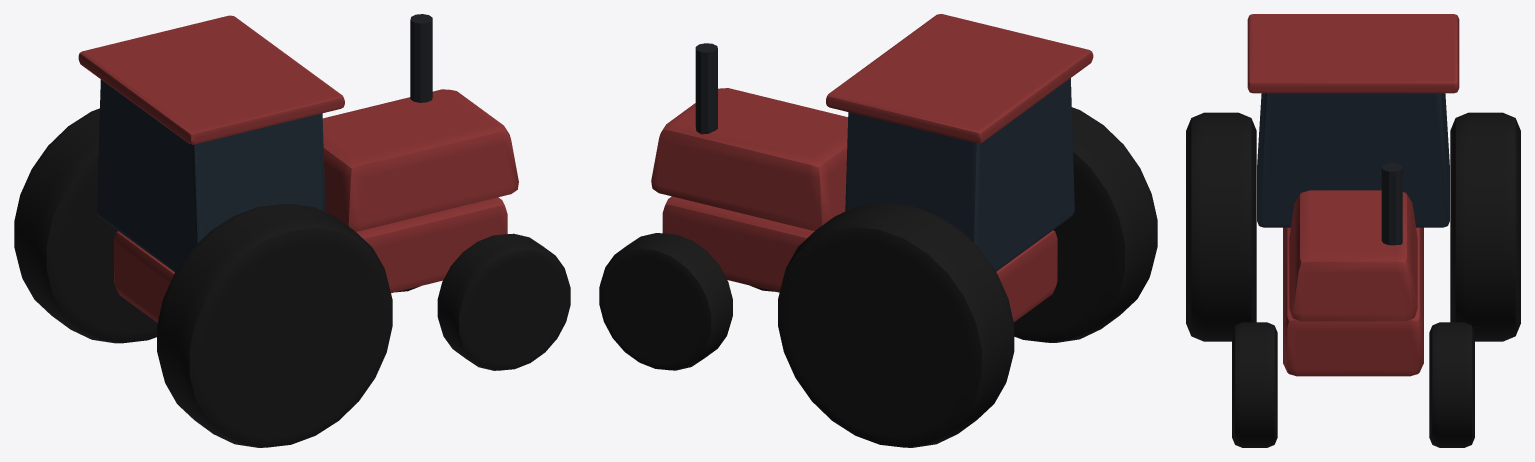
The model's file is tractor.glb.
3 renders of one model, left to right at view 1: azimuth 30°, elevation 25°; view 2: azimuth 150°, elevation 25°; view 3: azimuth 270°, elevation 25°, orthographic. The views are drawn at different scales.
Visible parts, largest first — view 1: part-paint, wheel-rear--1-tyre, part-glass, wheel-rear-1-tyre, wheel-front--1-tyre, part-trim; view 2: part-paint, wheel-rear-1-tyre, part-glass, wheel-rear--1-tyre, wheel-front-1-tyre, part-trim; view 3: part-paint, part-glass, wheel-rear-1-tyre, wheel-rear--1-tyre, wheel-front-1-tyre, wheel-front--1-tyre, part-trim.
Part boxes in pixels (x1,y1,x2,y2): part-paint: (78, 15, 518, 322); wheel-rear--1-tyre: (157, 203, 392, 447); part-glass: (96, 79, 325, 272); wheel-rear-1-tyre: (14, 108, 157, 343); wheel-front--1-tyre: (437, 233, 570, 370); part-trim: (410, 14, 432, 102); part-paint: (651, 14, 1093, 322); wheel-rear-1-tyre: (778, 203, 1014, 447); part-glass: (845, 78, 1074, 271); wheel-rear--1-tyre: (1014, 107, 1157, 342); wheel-front-1-tyre: (599, 233, 732, 370); part-trim: (695, 43, 717, 134); part-paint: (1247, 14, 1459, 376); part-glass: (1257, 93, 1449, 227); wheel-rear-1-tyre: (1450, 112, 1520, 341); wheel-rear--1-tyre: (1186, 112, 1256, 341); wheel-front-1-tyre: (1429, 322, 1474, 447); wheel-front--1-tyre: (1232, 322, 1277, 447); part-trim: (1381, 163, 1402, 245).
Size of the model in its own units: 25.02 by 18 by 19.
